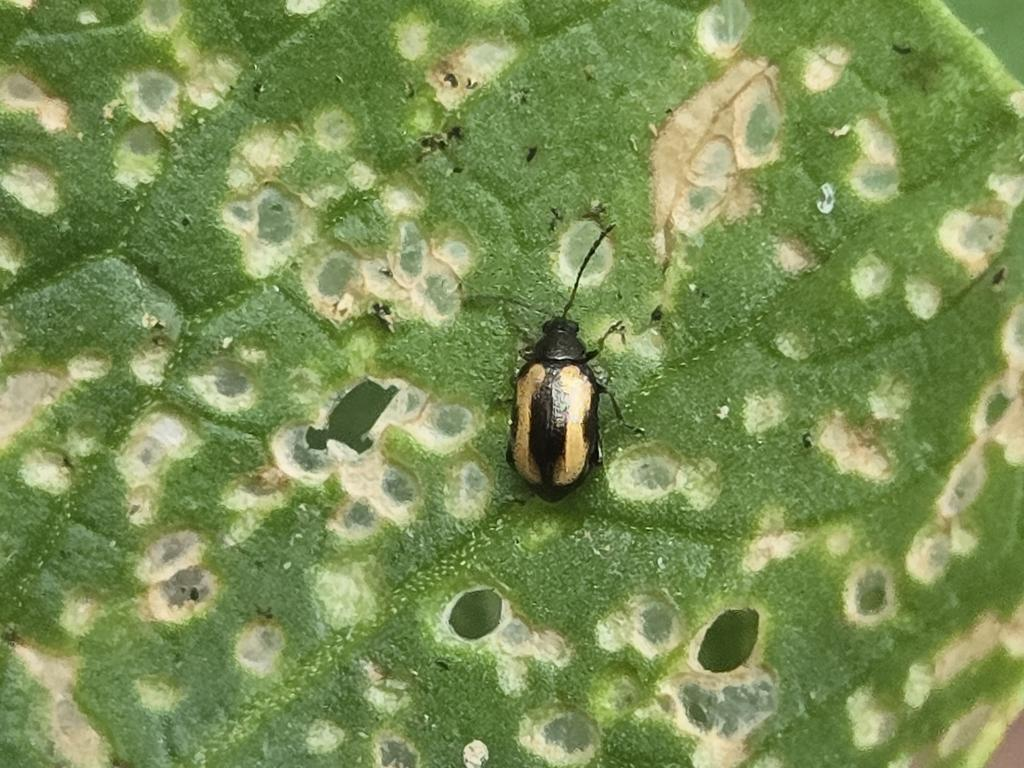flea_beetle: (412, 190, 681, 531)
